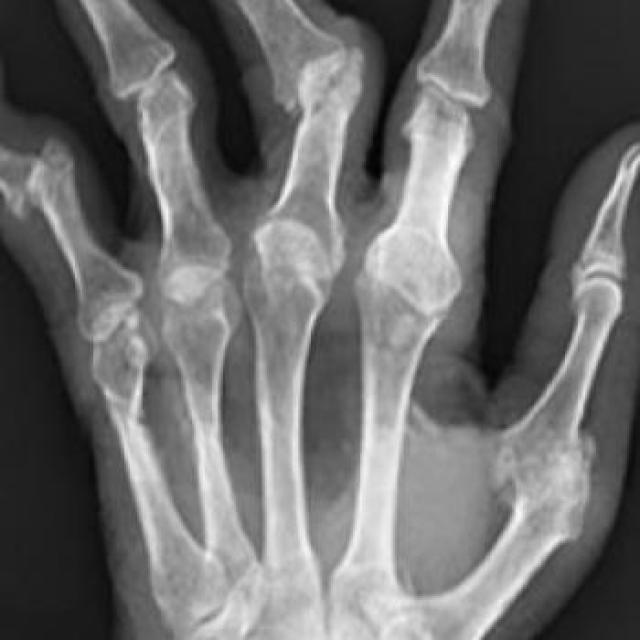Fracture: (270, 36, 366, 120)
